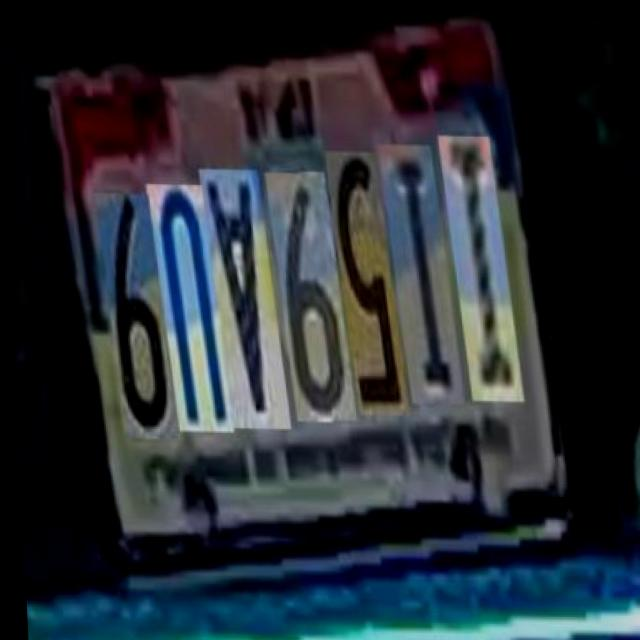5: (333, 152, 411, 417)
9: (272, 172, 358, 422), (100, 193, 181, 440)
a: (206, 169, 292, 429)
i: (447, 136, 527, 403), (387, 146, 466, 406)
u: (154, 185, 235, 432)
